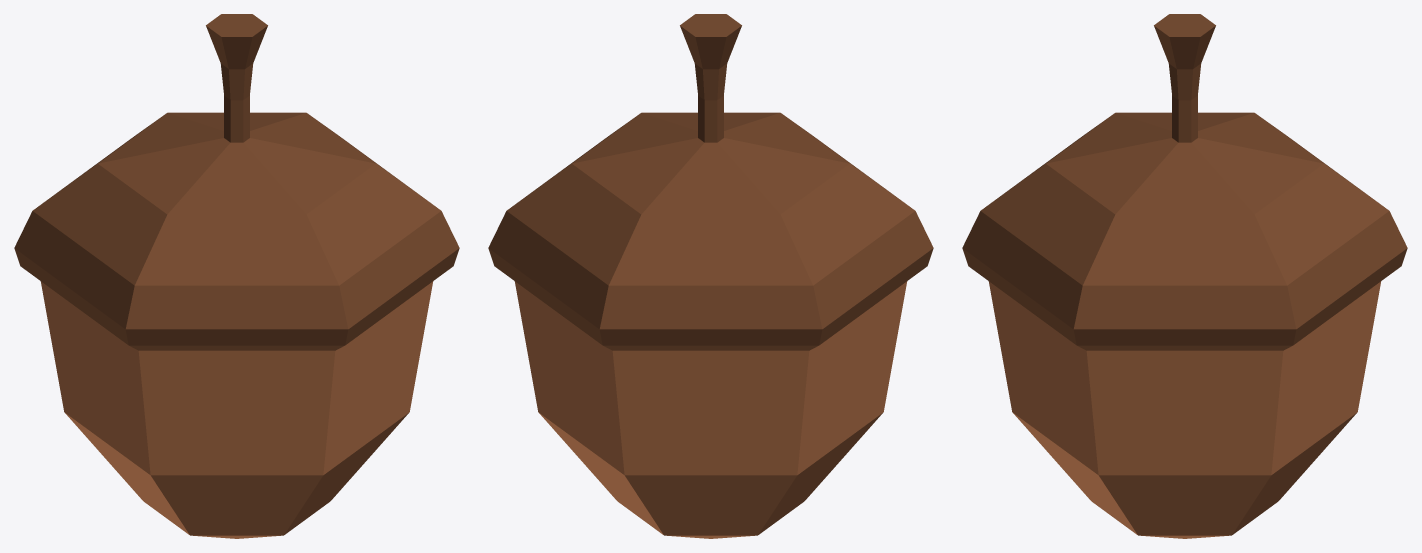
The model's file is Acorn.fbx.
The picture shows the model from 3 angles, left to right: view 1: azimuth 30°, elevation 25°; view 2: azimuth 150°, elevation 25°; view 3: azimuth 270°, elevation 25°; orthographic projection.
Parts seen in each view (by area): view 1: Sphere.001; view 2: Sphere.001; view 3: Sphere.001.
Boxes of the visible parts, box(x1,y1,x2,y2) form: Sphere.001: box(14, 14, 459, 538); Sphere.001: box(488, 14, 933, 538); Sphere.001: box(962, 14, 1407, 538).
Bounding box in the file's own units: 174 × 255 × 201.
